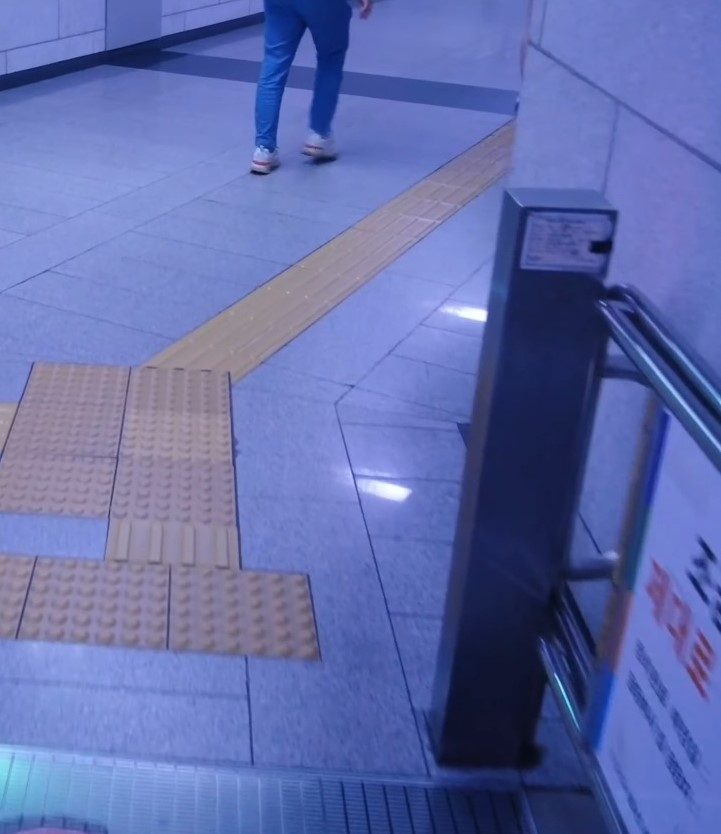guideBlock: (256, 273, 349, 342), (181, 295, 302, 346), (303, 247, 379, 290)
warningBlock: (176, 565, 333, 658), (39, 555, 188, 647), (17, 405, 144, 477), (1, 455, 132, 521), (112, 455, 234, 525), (126, 409, 239, 470), (121, 369, 234, 423), (26, 364, 130, 402)
